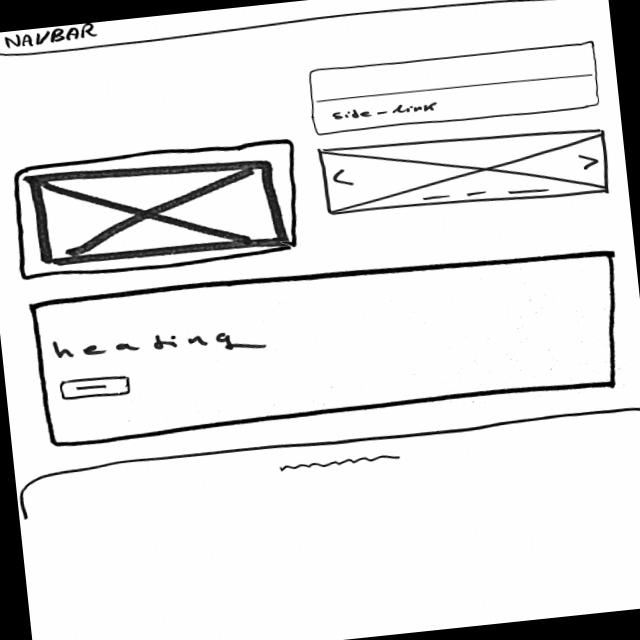container: (29, 241, 627, 450), (7, 138, 308, 286), (1, 1, 608, 61), (306, 40, 605, 139)
icon-button: (59, 374, 134, 403)
image: (27, 150, 288, 271), (318, 119, 613, 222)
label: (51, 319, 267, 371), (1, 22, 101, 50), (329, 101, 440, 123)
text: (276, 452, 405, 476)
